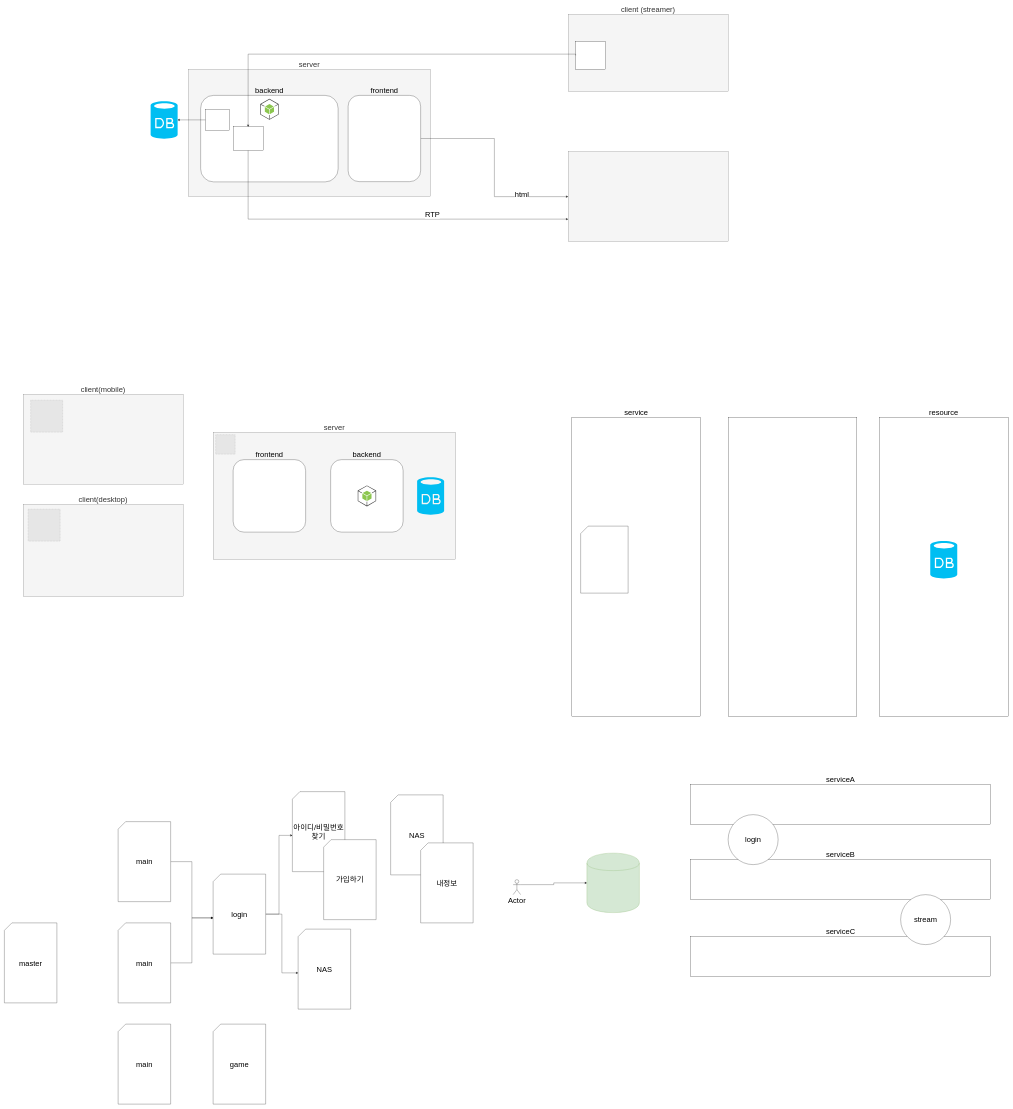
Image size: 1013x1109. Some labels were removed from this diagram. Grey dashed boxes stand in for pictures. The centre of each missing label's shape, as x and y in pixels:
"client (viewer)" belongs at pixel 648 196.
"module" belongs at pixel 792 567.
"NAS frontend" belongs at pixel 604 559.
"router" belongs at pixel 613 883.
"SQL" belongs at pixel 217 119.
"stream module" belongs at pixel 248 138.
